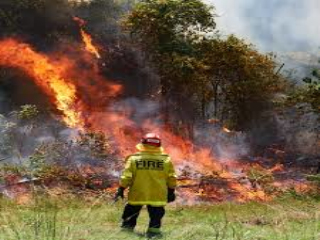fire: (6, 30, 128, 146), (142, 109, 290, 202)
